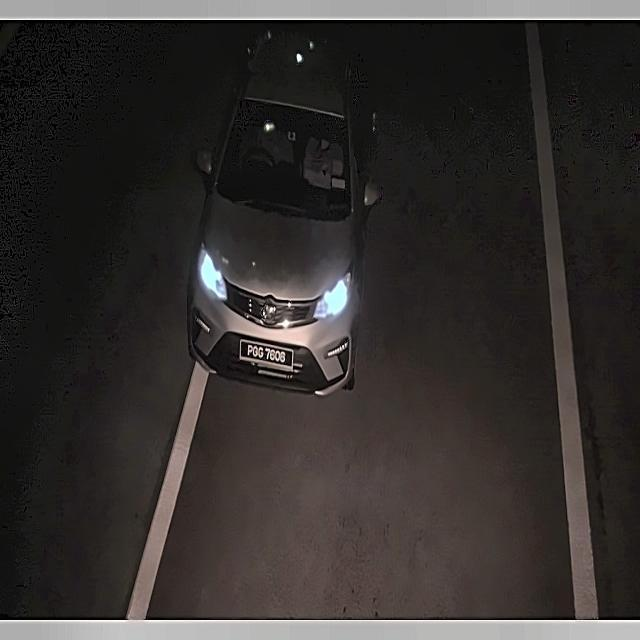car: (237, 331, 300, 378)
